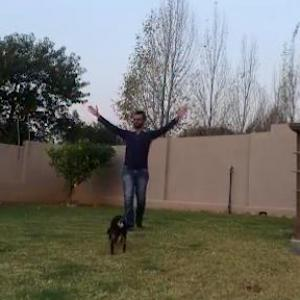takeoff: (79, 89, 203, 231)
